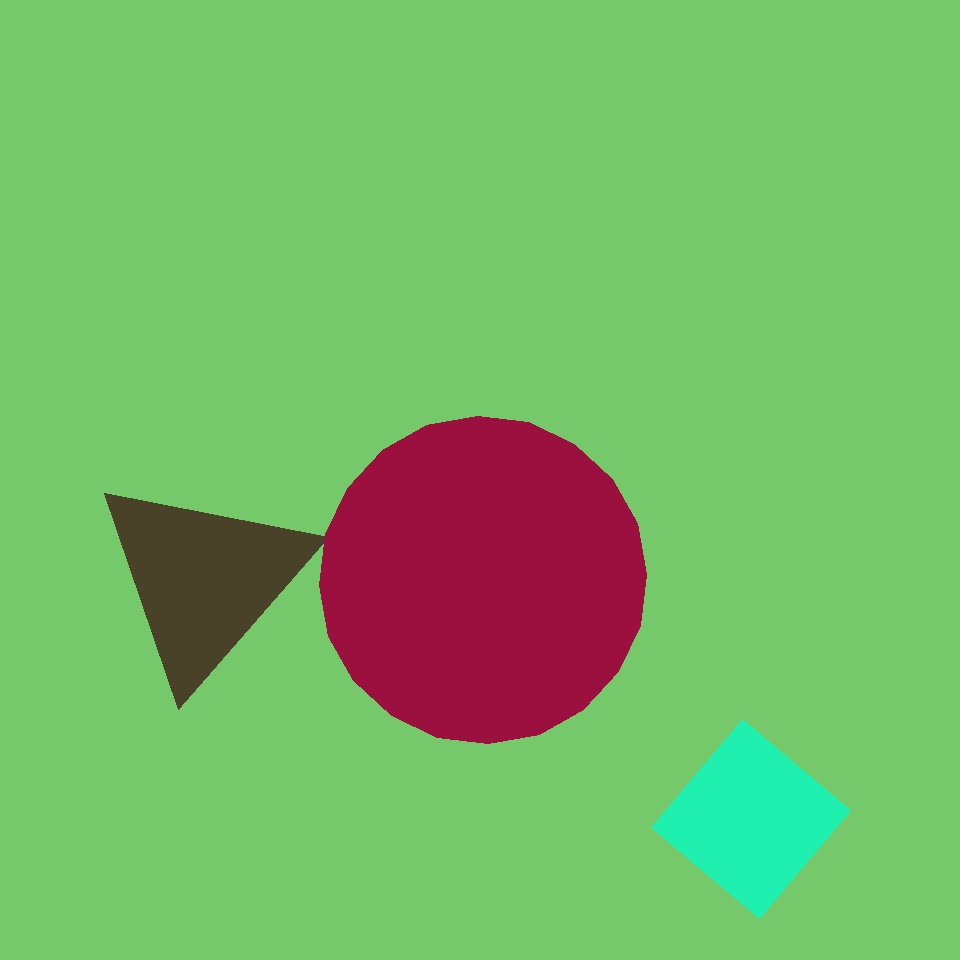circle: (92, 472, 316, 688)
square: (652, 720, 850, 918)
triangle: (320, 416, 646, 744)
